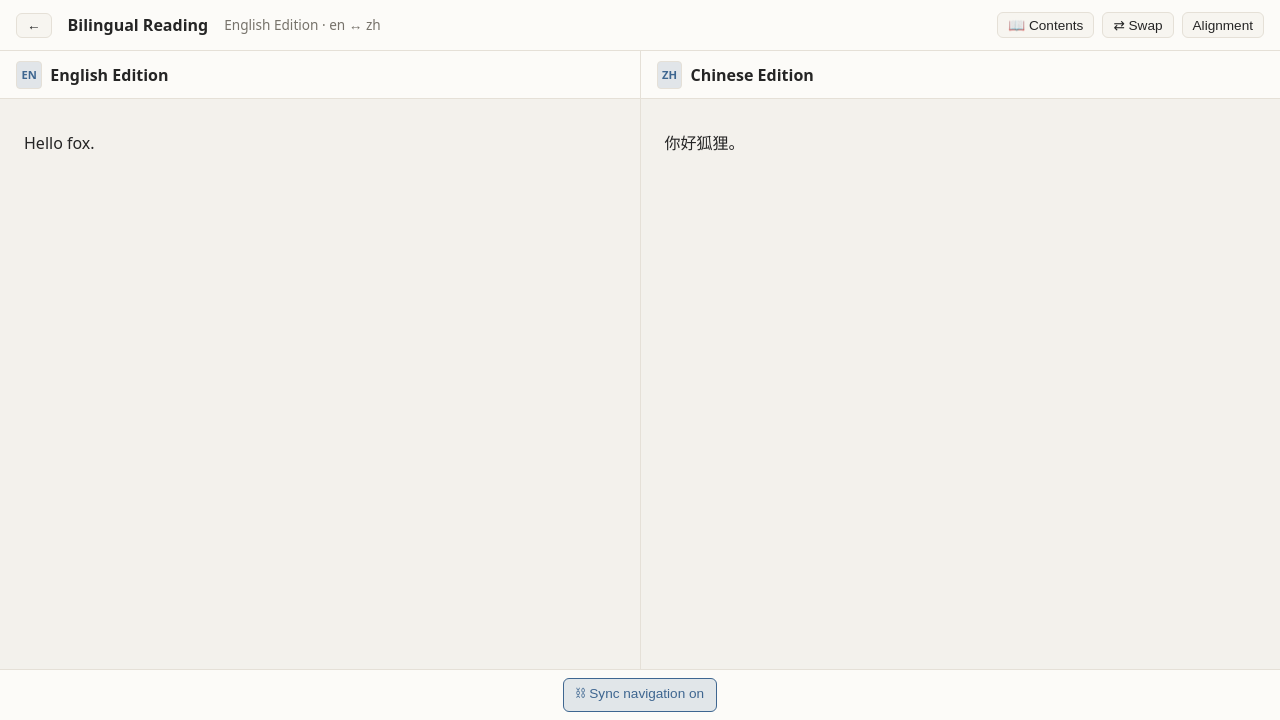
Scenario: BilingualReader › the Alignment panel classifies a clean 1:1 mapping as ok and a many-to-one mapping as review
Expected: the text "Hello fox." is shown, top-left (24, 132), bottom-right (95, 154)
Click the button "Alignment".
click(1223, 25)  # box top-left (1182, 12), bottom-right (1264, 38)
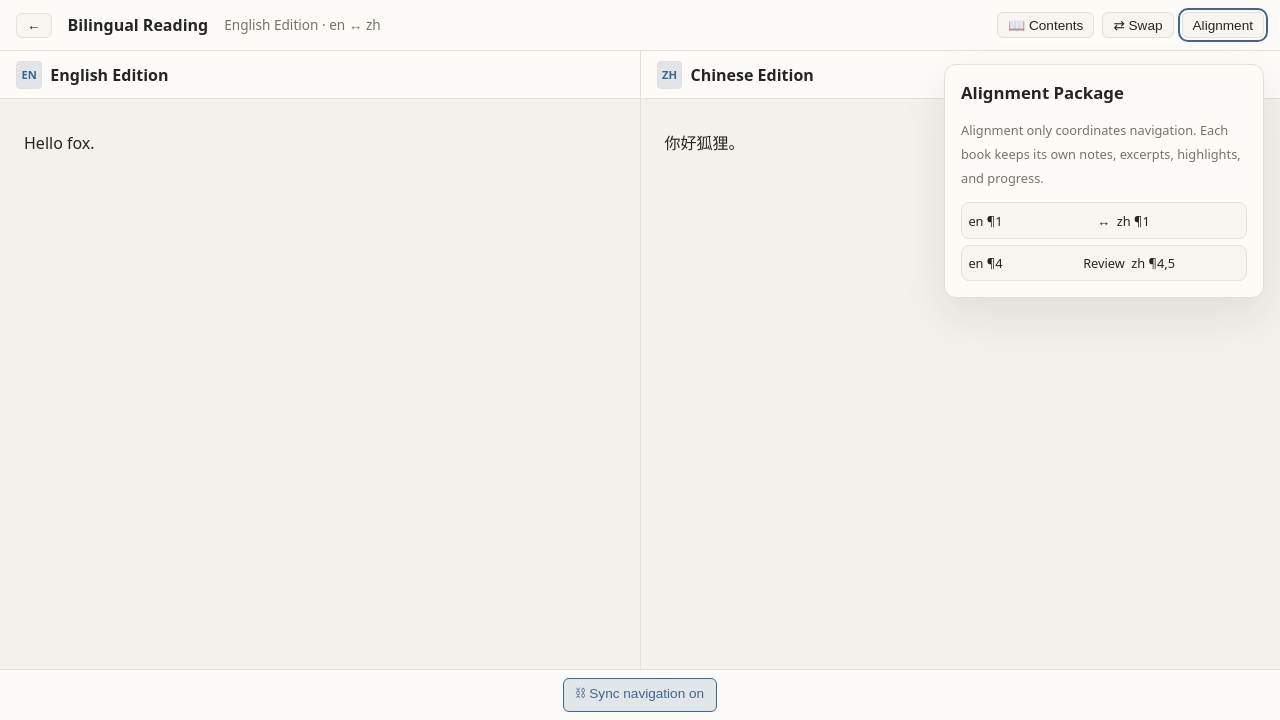
Expected: the text "↔" is shown, top-left (1098, 208), bottom-right (1110, 232)
Expected: the text "Review" is shown, top-left (1083, 251), bottom-right (1125, 275)
